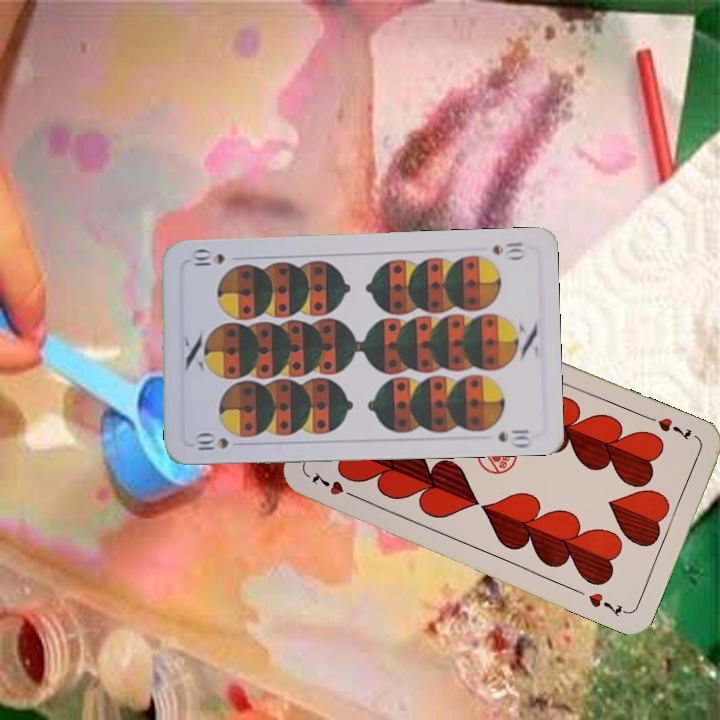H7: (308, 467, 362, 502), (644, 412, 694, 443)
S10: (191, 430, 231, 454), (488, 238, 527, 262)
